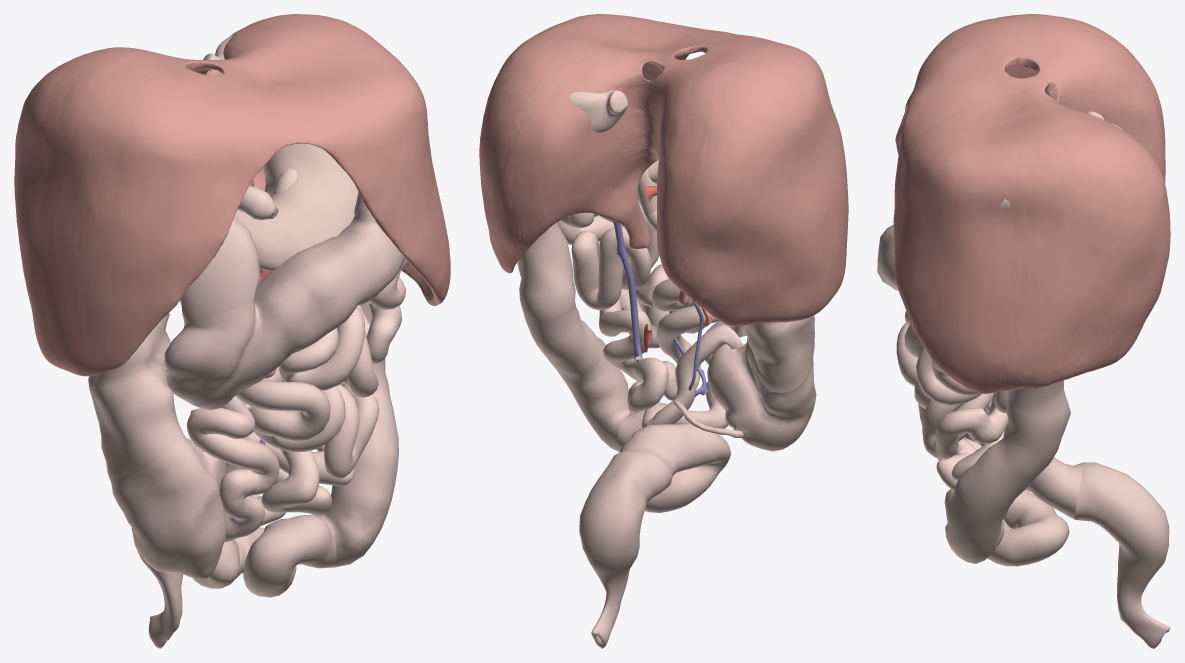
Rendered from gut.glb.
The picture shows the model from 3 angles, left to right: view 1: azimuth 30°, elevation 25°; view 2: azimuth 150°, elevation 25°; view 3: azimuth 270°, elevation 25°; orthographic projection. The views are drawn at different scales.
Visible parts, largest first — view 1: diaphragm, colon, ileum, stomach, jejunum, rectum, duodenum; view 2: diaphragm, colon, ileum, rectum, jejunum, stomach, mesenteric_vein, duodenum, appendix; view 3: diaphragm, colon, rectum, ileum, jejunum.
Part boxes in pixels (box(x1,y1,x2,y2)): diaphragm: box(14, 14, 450, 376); colon: box(88, 192, 405, 597); ileum: box(186, 377, 379, 542); stomach: box(203, 35, 358, 271); jejunum: box(264, 169, 409, 397); rectum: box(131, 527, 183, 648); duodenum: box(237, 185, 278, 220); diaphragm: box(479, 14, 848, 326); colon: box(517, 222, 816, 512); ileum: box(599, 264, 746, 428); rectum: box(579, 450, 671, 648); jejunum: box(557, 195, 680, 311); stomach: box(569, 90, 658, 183); mesenteric_vein: box(613, 221, 708, 396); duodenum: box(637, 168, 656, 231); appendix: box(673, 400, 743, 437); diaphragm: box(893, 14, 1170, 393); colon: box(877, 199, 1083, 566); rectum: box(1074, 462, 1170, 648); ileum: box(896, 322, 1008, 491); jejunum: box(904, 311, 1008, 413).
Size of the model in its own units: 3.03 by 4.93 by 2.25.
